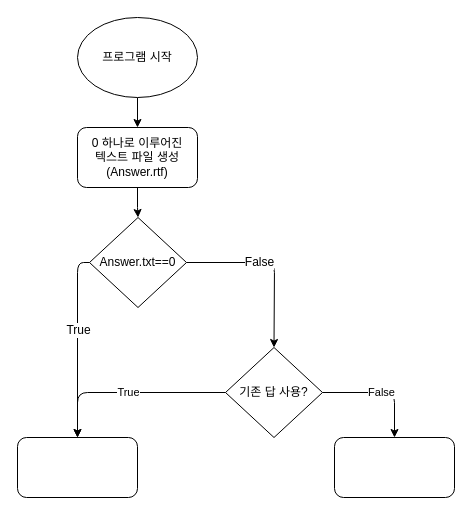
The diagram is 472 pixels wide and 515 high, and some of its shapes have lost their labels. Here are the shapes that lost their labels. From the top down, the centre of each, then its label:
the point at 77,467: 답안지 스캔 시작
the point at 394,467: 정답 스캔 시작
